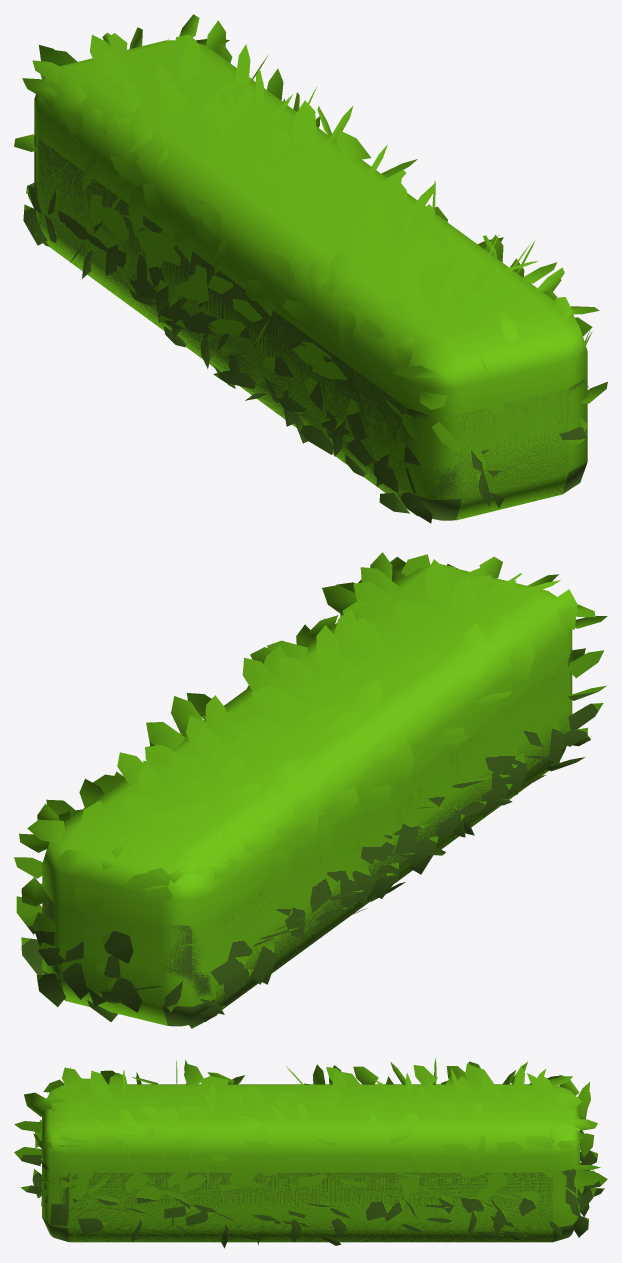
The model's file is Bush_8x2x2_Collider_Compound.glb.
3 views of the same model, one above another, from view 1: azimuth 30°, elevation 25°; view 2: azimuth 150°, elevation 25°; view 3: azimuth 270°, elevation 25° (orthographic). The views are drawn at different scales.
Visible parts, largest first — view 1: Bush_8x2x2_Collider_Compound_2023_06_26_v02.1, Bush_8x2x2_Collider_ConvexHull; view 2: Bush_8x2x2_Collider_Compound_2023_06_26_v02.1, Bush_8x2x2_Collider_ConvexHull; view 3: Bush_8x2x2_Collider_Compound_2023_06_26_v02.1, Bush_8x2x2_Collider_ConvexHull.
Part boxes in pixels (left/top/right/bottom): Bush_8x2x2_Collider_Compound_2023_06_26_v02.1: left=14, top=14, right=607, bottom=523; Bush_8x2x2_Collider_ConvexHull: left=34, top=40, right=587, bottom=520; Bush_8x2x2_Collider_Compound_2023_06_26_v02.1: left=14, top=552, right=607, bottom=1028; Bush_8x2x2_Collider_ConvexHull: left=42, top=567, right=572, bottom=1025; Bush_8x2x2_Collider_Compound_2023_06_26_v02.1: left=14, top=1058, right=607, bottom=1248; Bush_8x2x2_Collider_ConvexHull: left=42, top=1084, right=579, bottom=1242.
Bounding box in the file's own units: 2.82 × 2.42 × 8.83.
Materials: 1 (1 with a texture image).
